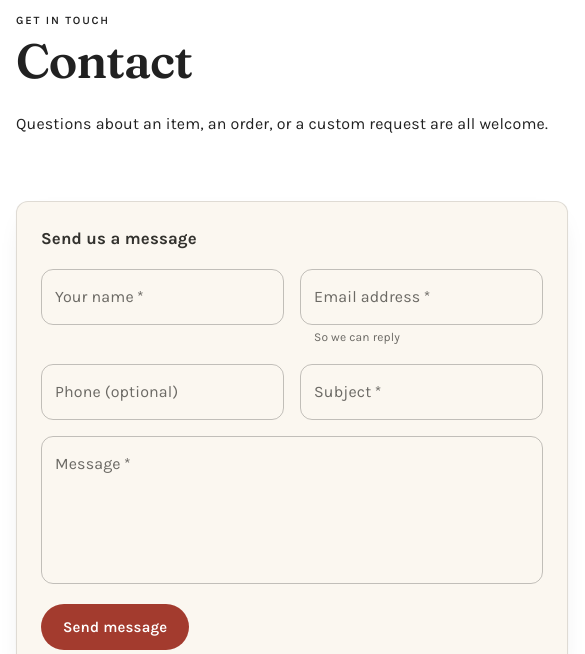
Test case: Contact form › keeps what was typed when sending fails, so it is not lost
Type "Asha Menon" into the field labelled "Your name *" at (162, 297), box 41,269 -> 284,325
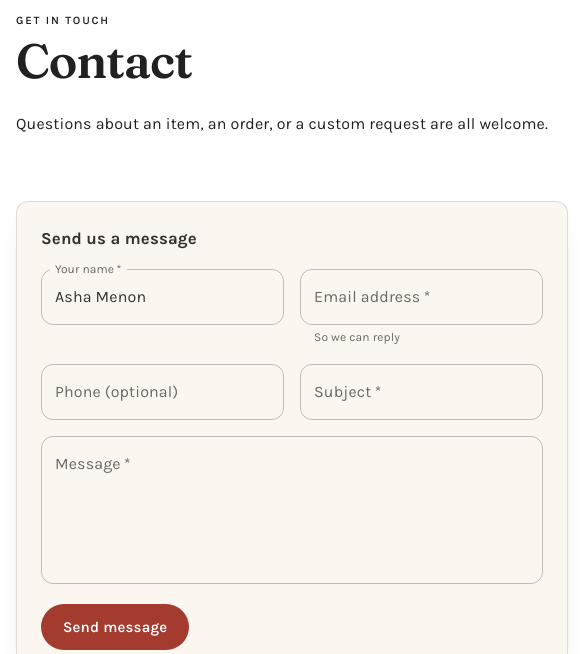
Type "asha@example.com" into the field labelled "Email address *" at (422, 297), box 300,269 -> 543,325
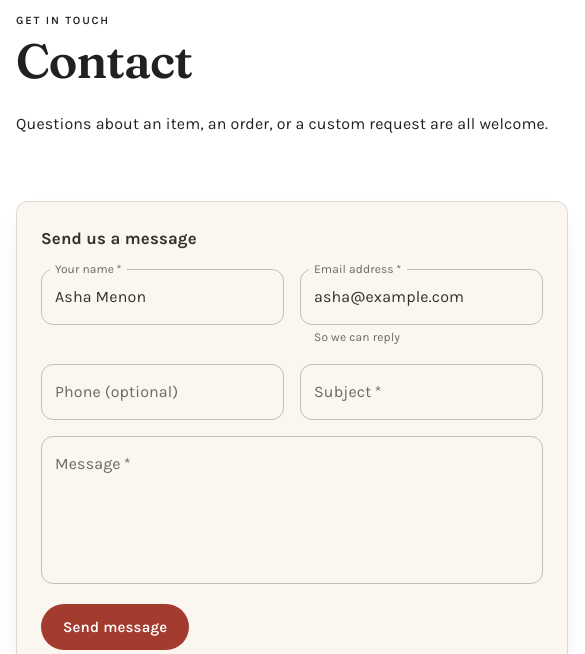
Type "A question" into the field labelled "Subject *" at (422, 392), box 300,364 -> 543,420
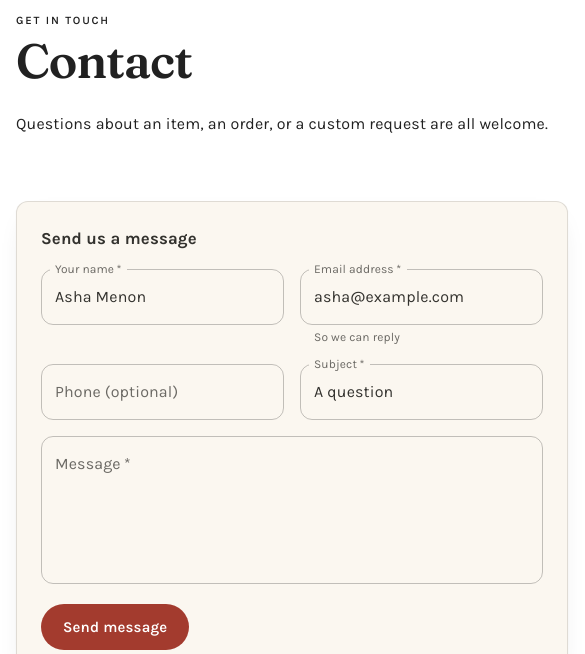
Type "Do you ship to Kochi?" into the text box labelled "Message *" at (292, 510), box 55,452 -> 529,567
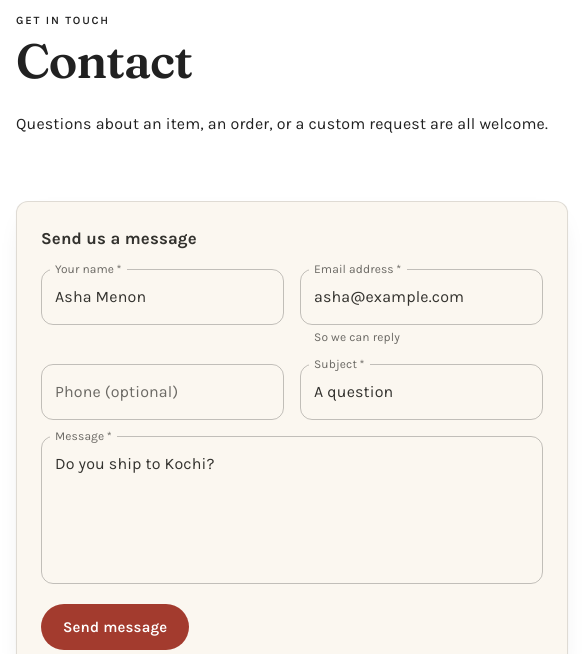
Click the button "Send message" at (115, 627), box 41,604 -> 189,650
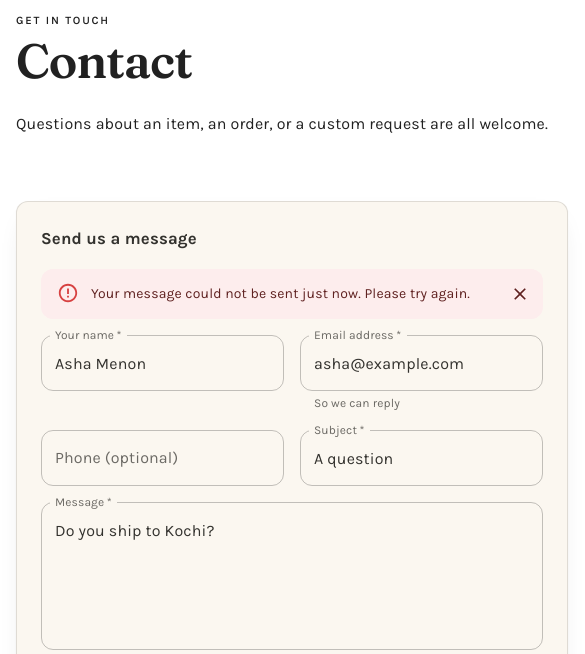
Now the text "Your message could not be sent just now. Please try again." is shown, box 91,285 -> 470,302
